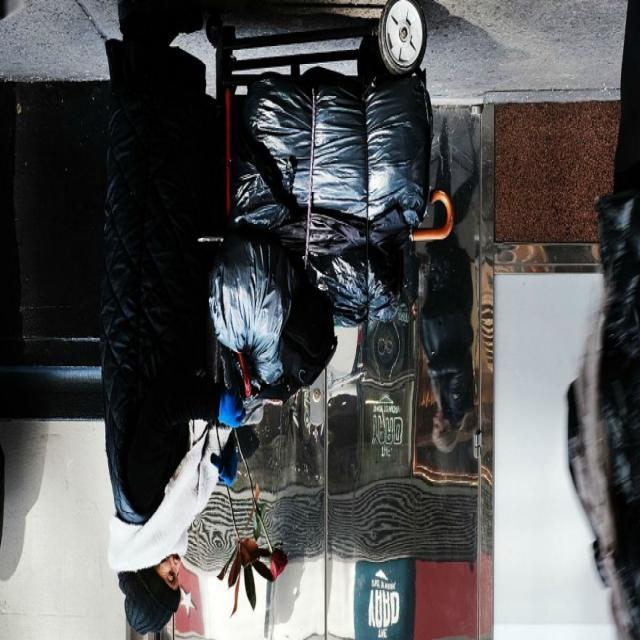Trashbag: (293, 204, 419, 331), (202, 231, 300, 379), (232, 71, 313, 240), (363, 82, 439, 235), (304, 80, 375, 222)
